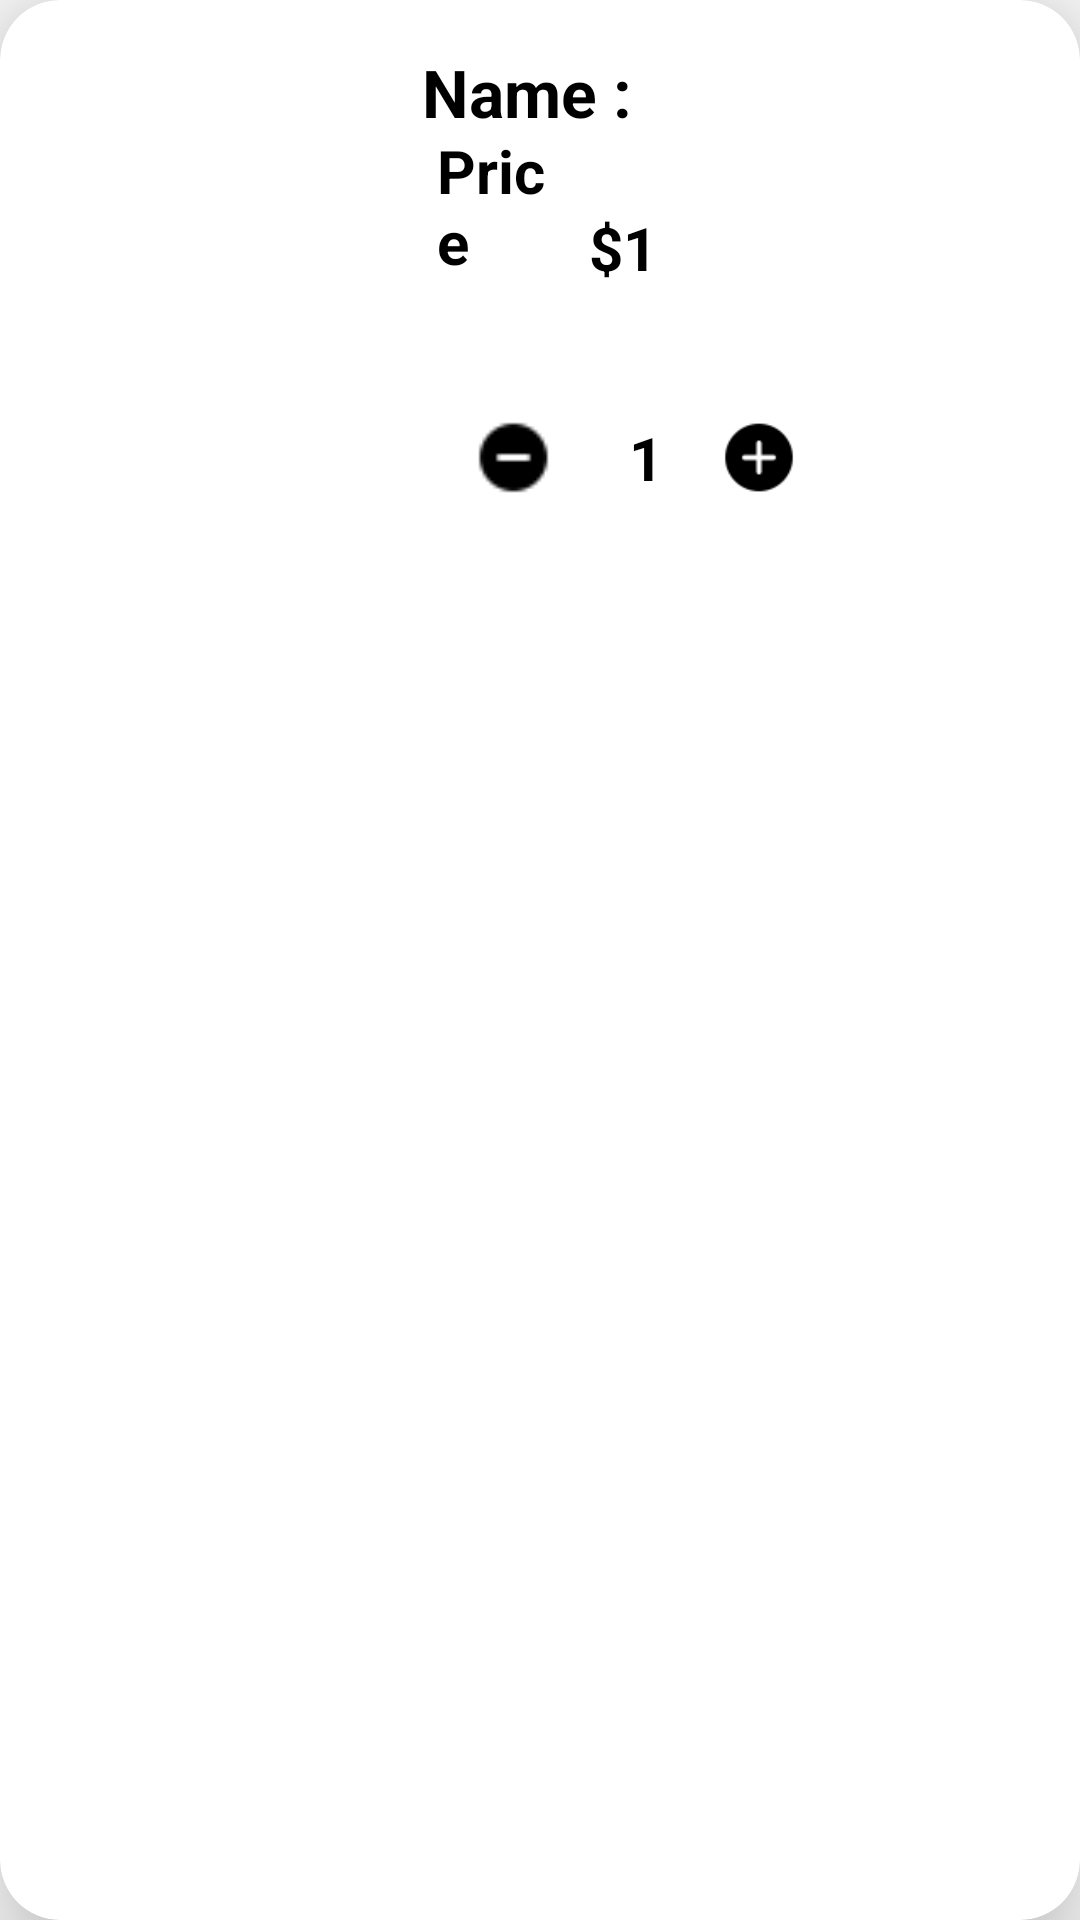

Screen size 1080×1920. Icon name, then its center in pixels as [x,y]:
minus: [513,457]
plus: [759,457]
